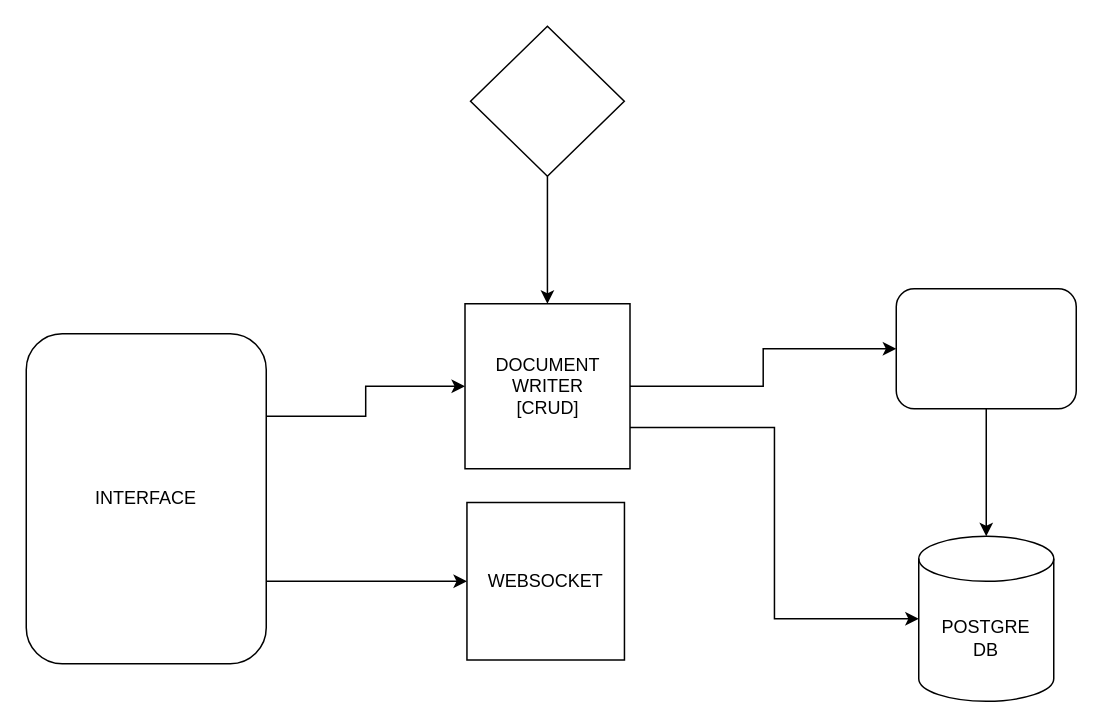
Some shapes in this 1103 by 728 pixel diagram are drawn without their labels. The centre of each missing label's shape, as x and y in pixels:
"OPERATIONAL TRANSFORMS" belongs at [546,100].
"REDIS CACHE" belongs at [985,348].
